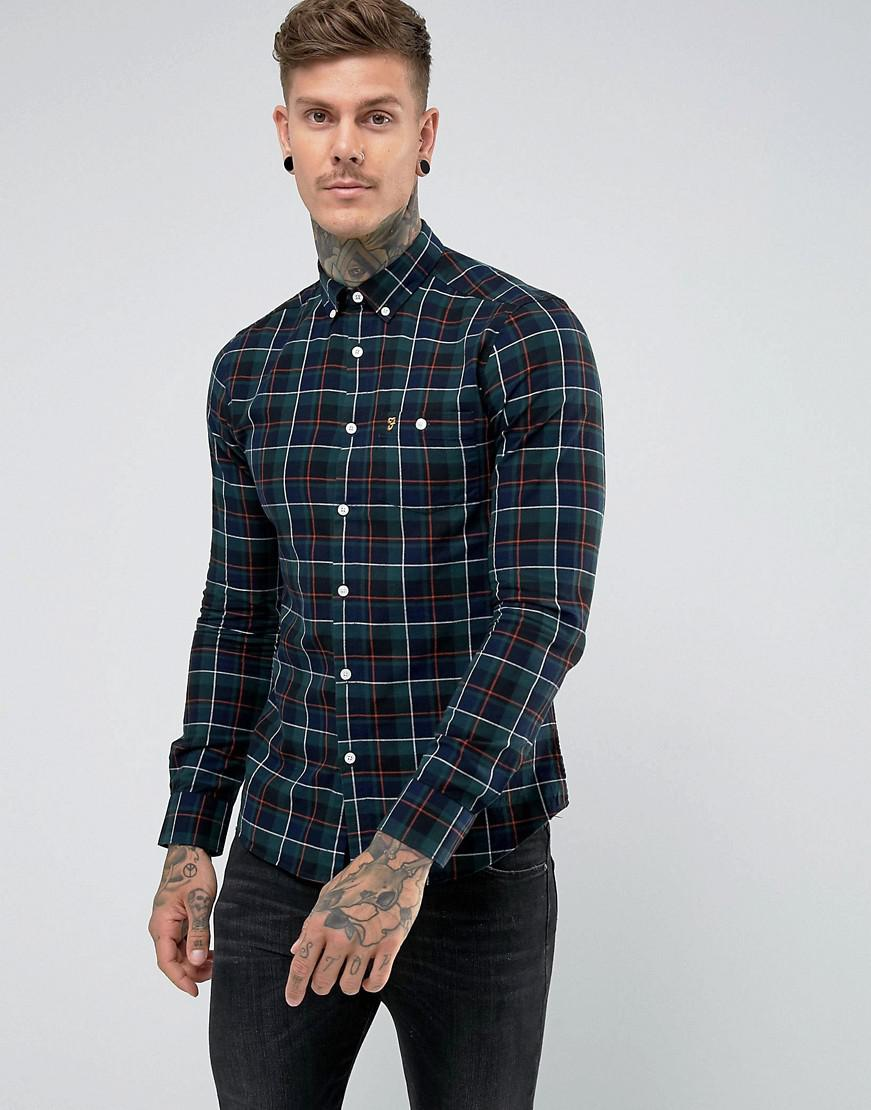teeshirt: (144, 237, 622, 922)
